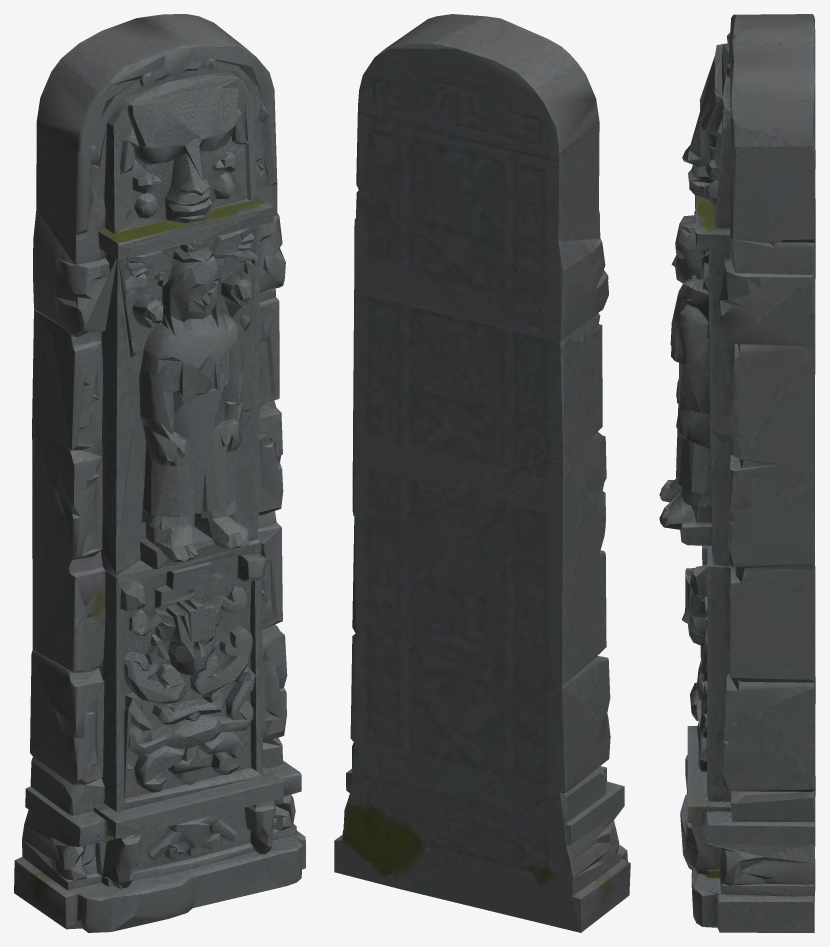
The model's file is scene_stela.glb.
3 renders of one model, left to right at view 1: azimuth 30°, elevation 25°; view 2: azimuth 150°, elevation 25°; view 3: azimuth 270°, elevation 25°, orthographic.
Bounding box in the file's own units: 0.5742 × 1.9 × 0.3191.
Materials: 1 (1 with a texture image).
